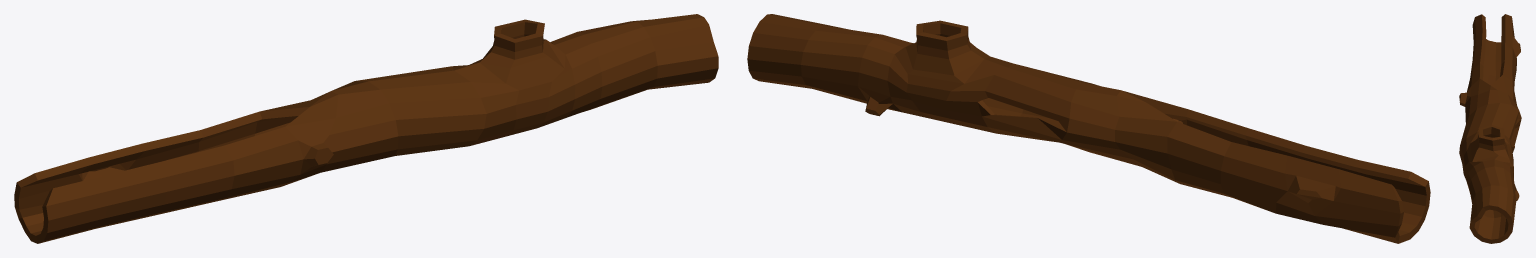
File: Dump.fbx
3 views of the same model, side by side, from view 1: azimuth 30°, elevation 25°; view 2: azimuth 150°, elevation 25°; view 3: azimuth 270°, elevation 25° (orthographic). The views are drawn at different scales.
Parts seen in each view (by area): view 1: Cylinder; view 2: Cylinder; view 3: Cylinder.
Part boxes in pixels (box(x1,y1,x2,y2)): Cylinder: box(14, 14, 718, 243); Cylinder: box(747, 14, 1430, 243); Cylinder: box(1459, 14, 1521, 243).
Bounding box in the file's own units: 1866 × 256 × 247.
